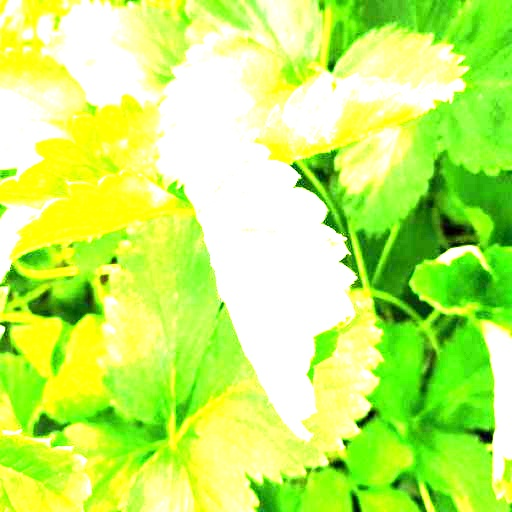Powdery Mildew Leaf: (181, 129, 360, 447), (249, 21, 471, 162)
